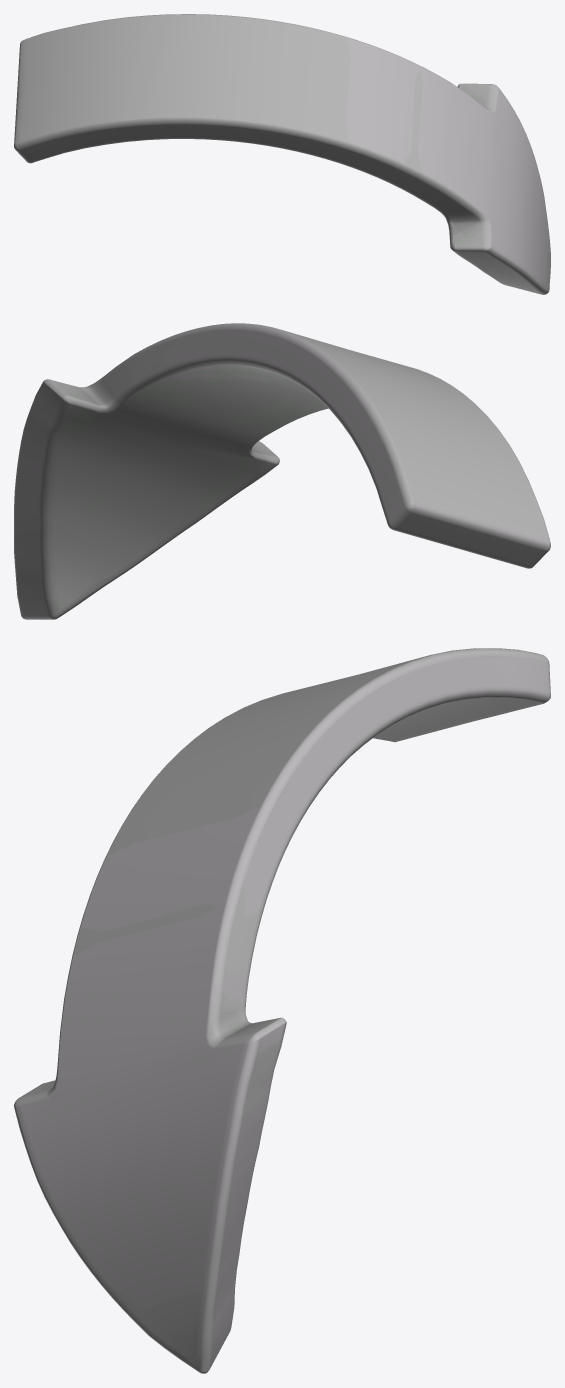
The model's file is curved_arrow.fbx.
The picture shows the model from 3 angles, top to bottom: view 1: azimuth 30°, elevation 25°; view 2: azimuth 150°, elevation 25°; view 3: azimuth 270°, elevation 25°; orthographic projection. The views are drawn at different scales.
Parts seen in each view (by area): view 1: node_id30; view 2: node_id30; view 3: node_id30.
Part boxes in pixels (left/top/right/bottom): node_id30: left=14, top=14, right=550, bottom=294; node_id30: left=14, top=323, right=550, bottom=619; node_id30: left=14, top=648, right=550, bottom=1373.
Size of the model in its own units: 0.512 by 0.3204 by 0.3296.
1 material, 1 textured.
